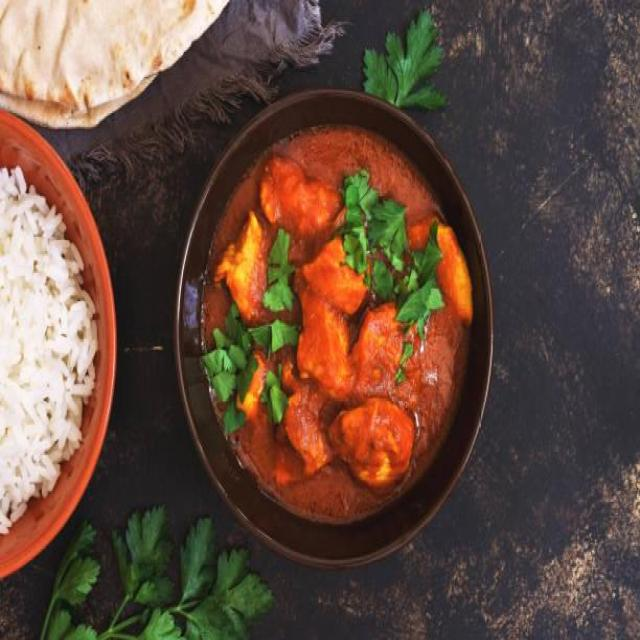chicken: (191, 111, 464, 512)
rice: (5, 166, 95, 521)
roti: (0, 0, 254, 103)
